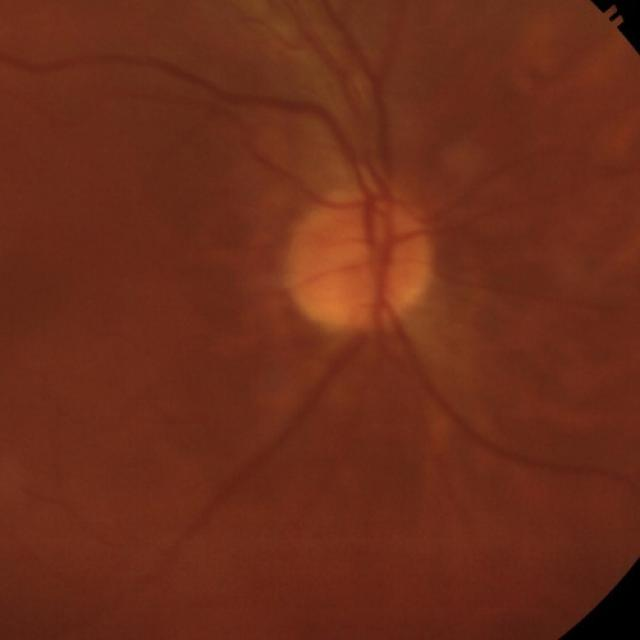OD: (285, 190, 433, 336)
